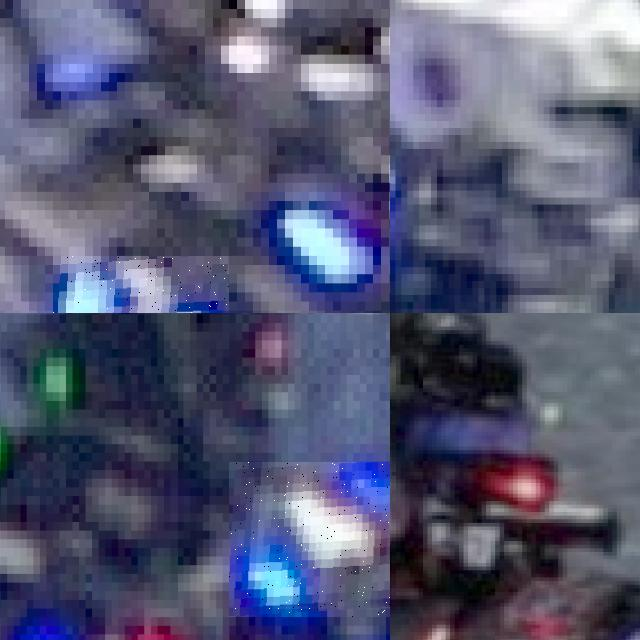B3: (53, 256, 229, 313)
B4: (229, 461, 390, 617)
